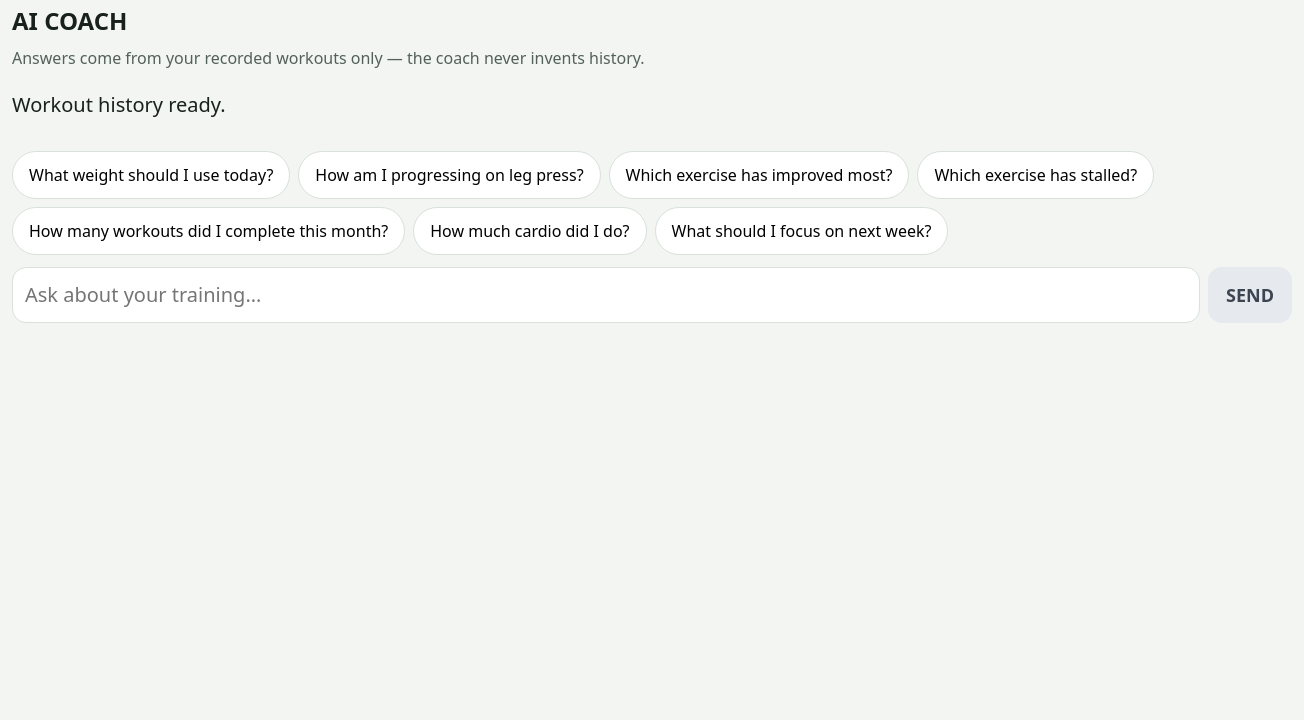
Test: CoachScreen › interactively confirms and saves an extra exercise requested in chat
Check: the text "Workout history ready." is shown, box [12, 91, 226, 118]
Note: User asks to add biceps curls
Type "add biceps curls" into the field named "Ask the coach" at x=606, y=295, box [12, 267, 1200, 323]
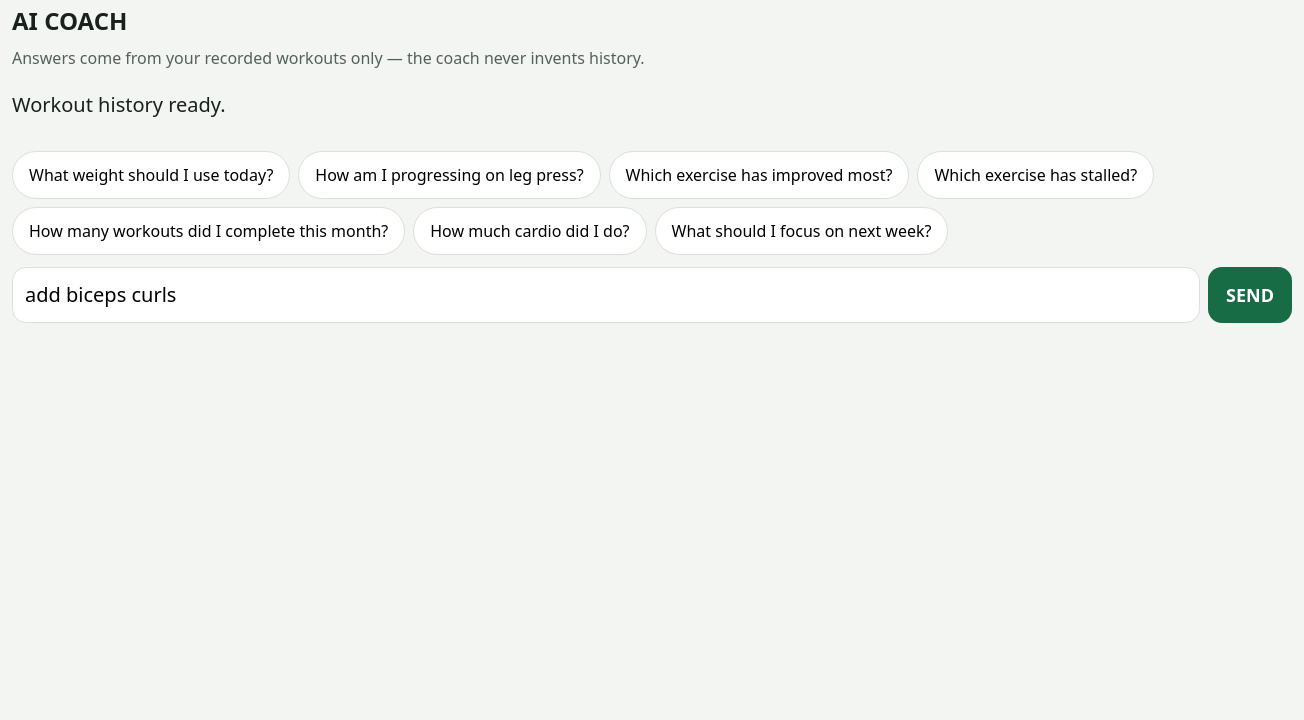
Click the button "SEND" at x=1250, y=295, box [1208, 267, 1292, 323]
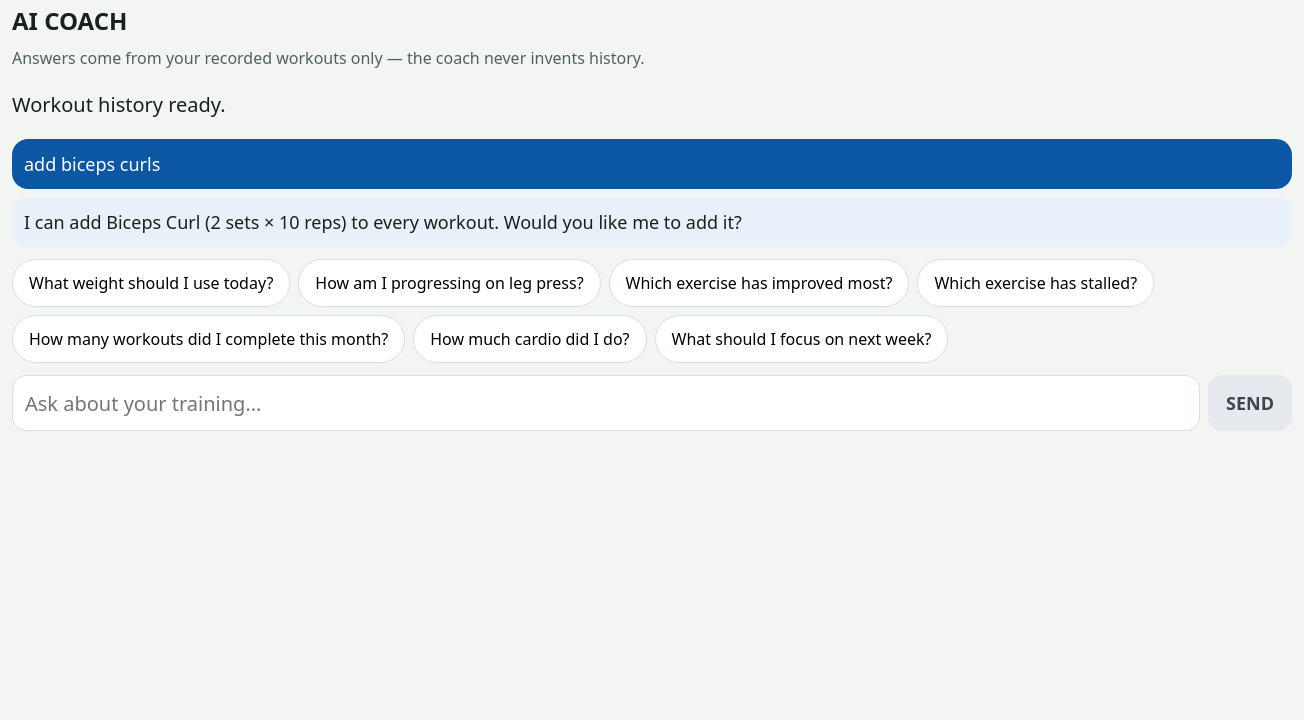
Check: the text "I can add Biceps Curl (2 sets × 10 reps) to every workout. Would you like me to add it?" is shown, box [24, 210, 742, 234]
Note: User confirms with "yes"
Type "yes" into the field named "Ask the coach" at x=606, y=403, box [12, 375, 1200, 431]
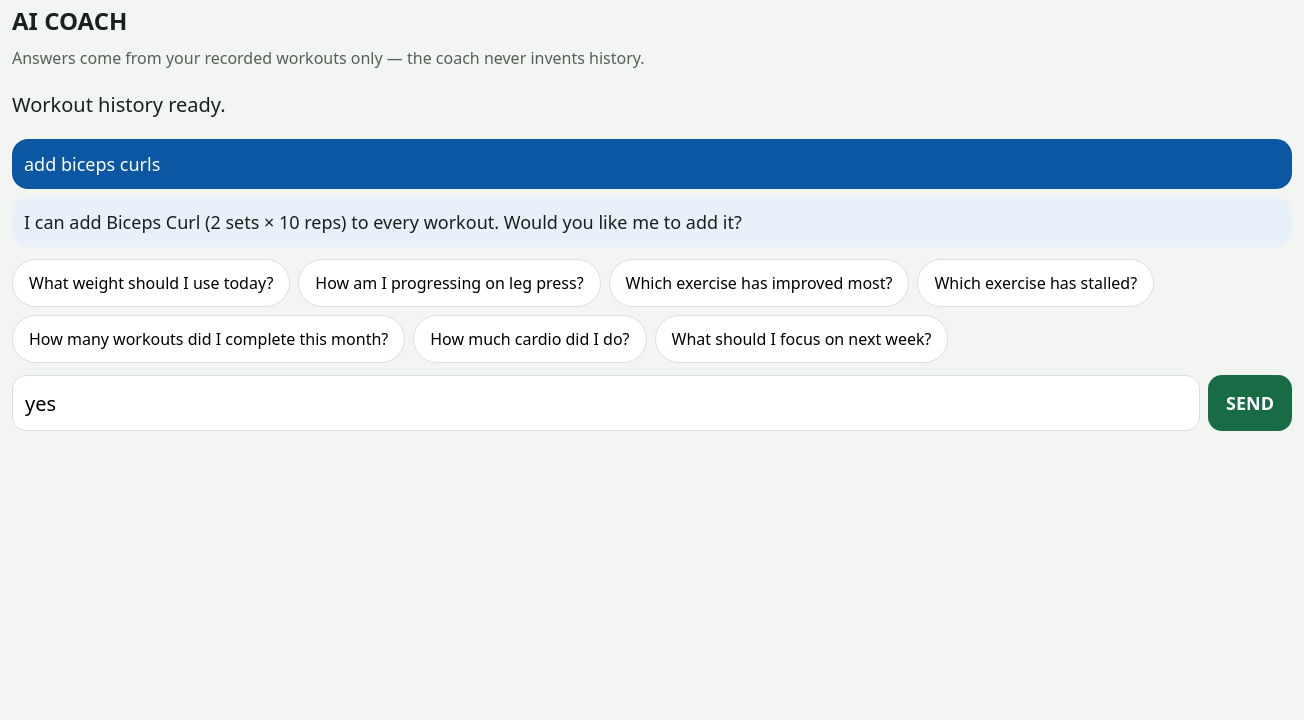
Click the button "SEND" at x=1250, y=403, box [1208, 375, 1292, 431]
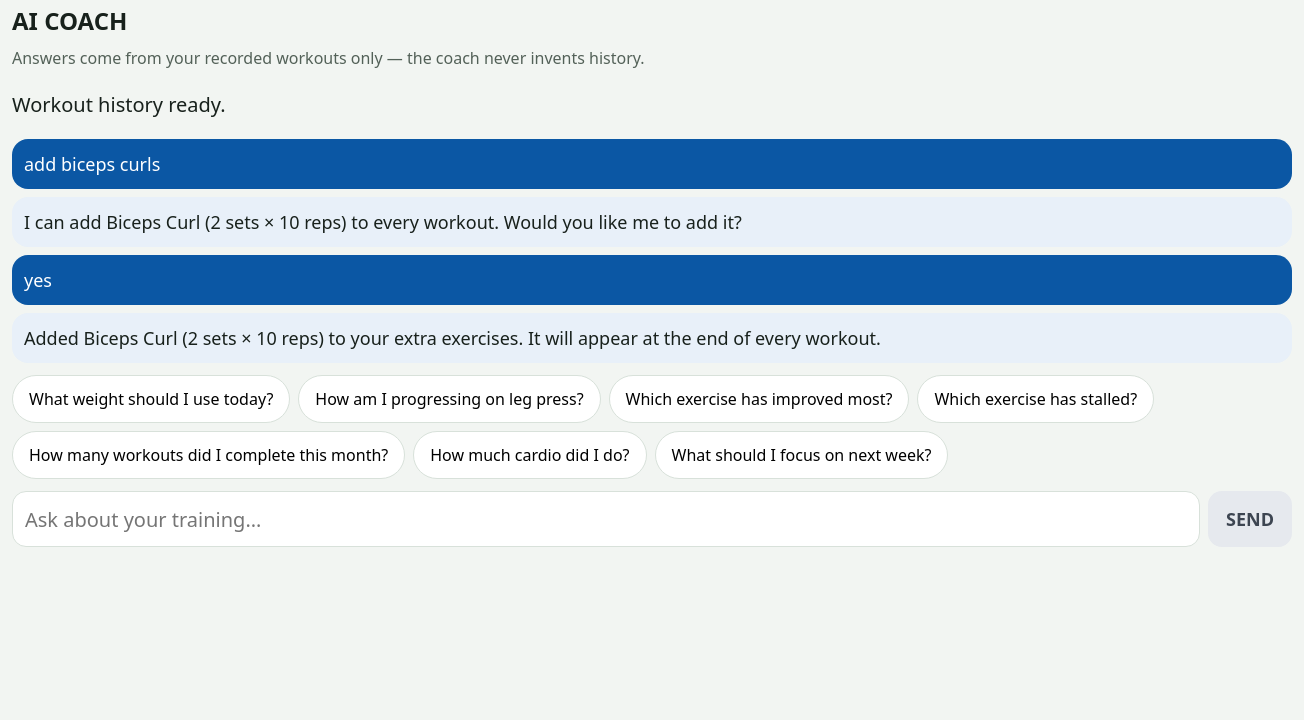
Check: the text "Added Biceps Curl (2 sets × 10 reps) to your extra exercises. It will appear at the end of every workout." is shown, box [24, 326, 881, 350]
